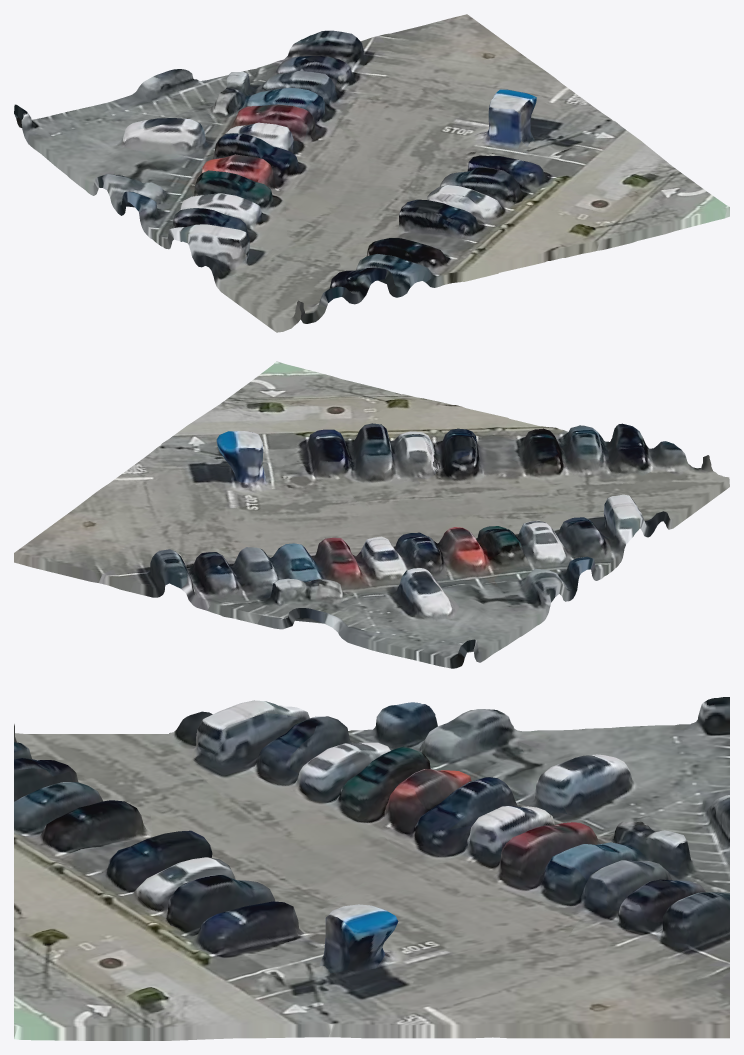
The model's file is z20-167783-405215-h0-yup-uvflip-v3-world.glb.
3 views of the same model, one above another, from view 1: azimuth 30°, elevation 25°; view 2: azimuth 150°, elevation 25°; view 3: azimuth 270°, elevation 25° (orthographic). The views are drawn at different scales.
Size of the model in its own units: 30.2 by 3.48 by 30.32.
Materials: 1 (1 with a texture image).
